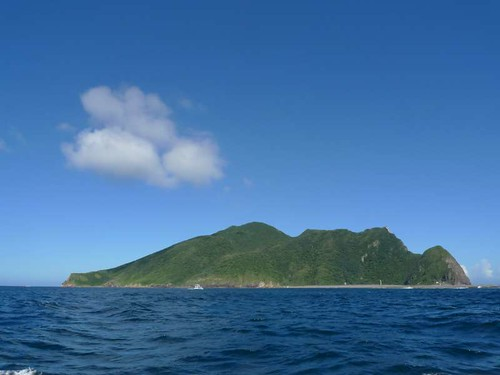turtleIsland: (60, 221, 472, 289)
